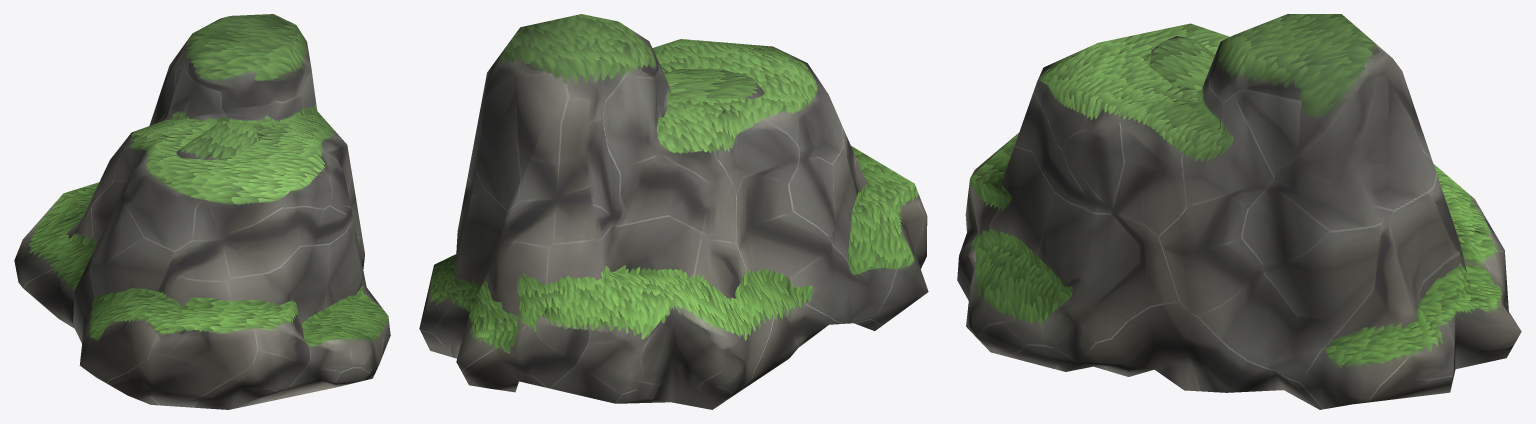
Rendered from Rock_Pack.fbx.
3 views of the same model, side by side, from view 1: azimuth 30°, elevation 25°; view 2: azimuth 150°, elevation 25°; view 3: azimuth 270°, elevation 25° (orthographic). The views are drawn at different scales.
Parts seen in each view (by area): view 1: Large_Rock, Medium_Rock; view 2: Large_Rock, Medium_Rock; view 3: Large_Rock, Medium_Rock.
Boxes of the visible parts, x1,y1,x2,y2 form: Large_Rock: [14, 14, 390, 409]; Medium_Rock: [176, 122, 258, 160]; Large_Rock: [419, 14, 928, 409]; Medium_Rock: [664, 69, 763, 98]; Large_Rock: [957, 14, 1521, 409]; Medium_Rock: [1149, 36, 1214, 89].
Size of the model in its own units: 722 by 499 by 812.
